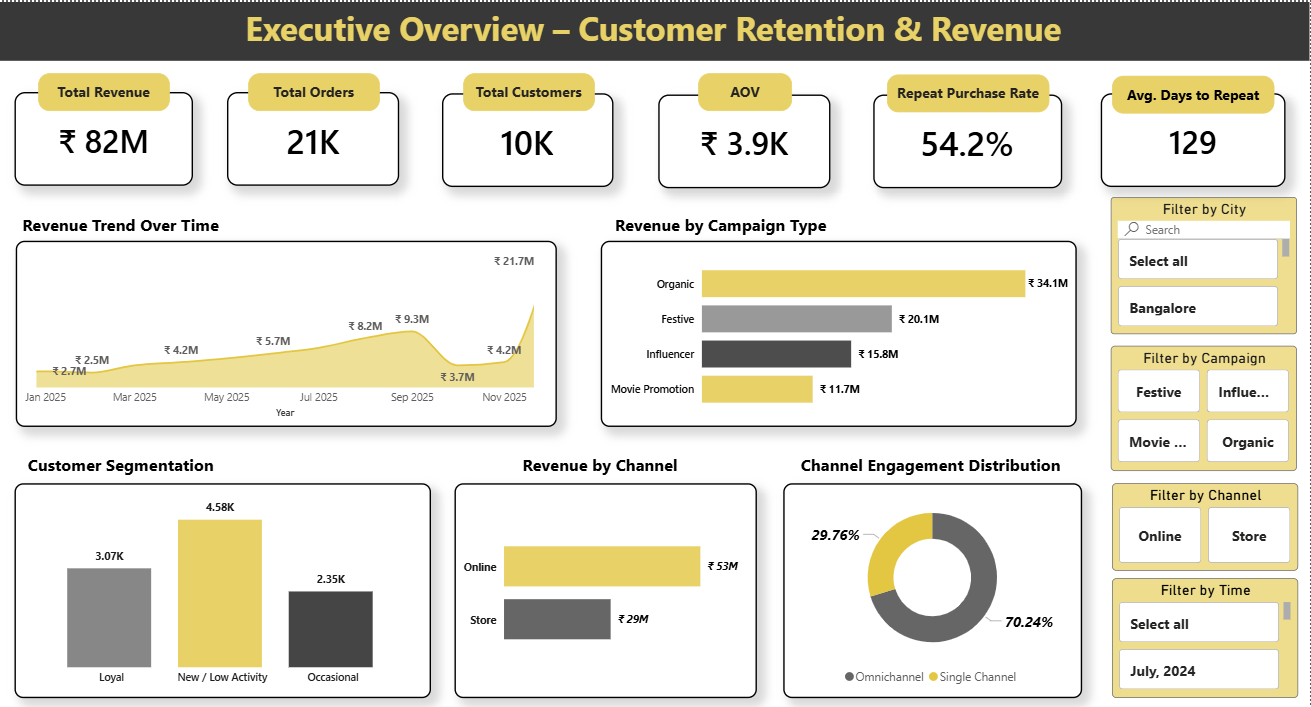

Layout of this report page (visuals, bound fields, positions):
{"tool":"powerbi","page":{"name":"Executive Overview","canvas":[1500,810],"ordinal":0},"visuals":[{"type":"cardVisual","fields":{"Data":["order_items.Total Revenue"]},"box":[20,102.9,204.3,107.1],"z":0},{"type":"textbox","box":[47.1,81.4,150,42.9],"z":1000},{"type":"cardVisual","fields":{"Data":["order_items.Total Orders"]},"box":[262.9,102.9,197.1,107.1],"z":2000},{"type":"cardVisual","fields":{"Data":["order_items.Total Customers"]},"box":[508.6,104.3,195.7,107.1],"z":3000},{"type":"cardVisual","fields":{"Data":["order_items.AOV"]},"box":[755.7,105.7,197.1,107.1],"z":4000},{"type":"cardVisual","fields":{"Data":["order_items.Repeat Purchase Rate"]},"box":[1001.4,105.7,215.7,107.1],"z":5000},{"type":"textbox","box":[287.1,81.4,150,42.9],"z":6000},{"type":"textbox","box":[532.9,81.4,150,42.9],"z":7000},{"type":"textbox","box":[801.4,81.4,107.1,42.9],"z":8000},{"type":"textbox","box":[1017.1,82.9,185.7,42.9],"z":9000},{"type":"textbox","box":[0,0,1500,67.1],"z":10000},{"type":"lineChart","fields":{"Y":["order_items.Total Revenue"],"Category":["orders.MonthYear.Variation.Date Hierarchy.Year","orders.MonthYear.Variation.Date Hierarchy.Month"]},"box":[21.4,272.9,618.6,212.9],"z":11000},{"type":"clusteredBarChart","fields":{"Category":["orders.order_channel"],"Y":["order_items.Total Revenue"]},"box":[522.9,550,345.7,245.7],"z":12000},{"type":"clusteredBarChart","fields":{"Category":["orders.campaign_type"],"Y":["order_items.Total Revenue"]},"box":[690,272.9,544.3,212.9],"z":13000},{"type":"clusteredColumnChart","fields":{"Category":["customers.Customer Segment"],"Y":["Count(customers.customer_id)"]},"box":[20,550,475.7,245.7],"z":14000},{"type":"advancedSlicerVisual","title":"Filter by Campaign","fields":{"Values":["orders.campaign_type"]},"box":[1272.9,392.9,212.9,142.9],"z":15000},{"type":"advancedSlicerVisual","title":"Filter by Channel","fields":{"Values":["orders.order_channel"]},"box":[1274.3,550,212.9,100],"z":16000},{"type":"advancedSlicerVisual","title":"Filter by Time","fields":{"Values":["orders.MonthYear"]},"box":[1274.3,658.6,212.9,137.1],"z":17000},{"type":"textbox","box":[20,237.1,242.9,48.6],"z":18000},{"type":"textbox","box":[587.1,511.4,204.3,48.6],"z":19000},{"type":"textbox","box":[691.4,237.1,271.4,48.6],"z":20000},{"type":"textbox","box":[20,511.4,242.9,48.6],"z":21000},{"type":"advancedSlicerVisual","title":"Filter by City","fields":{"Values":["customers.city"]},"box":[1272.9,222.9,212.9,157.1],"z":22000},{"type":"cardVisual","fields":{"Data":["order_items.Avg Days to Repeat Purchase"]},"box":[1261.4,104.3,211.4,107.1],"z":23000},{"type":"textbox","box":[1274.3,84.3,185.7,42.9],"z":24000},{"type":"donutChart","fields":{"Category":["customers.Channel Type"],"Y":["orders.Avg Orders per Customer"]},"box":[898.6,550,341.4,245.7],"z":24001},{"type":"textbox","box":[908.6,511.4,317.1,48.6],"z":24002}]}

Visuals, with their boxes in screenshot pixels (x1, y1, x2, y2), scaled from the page's 1500x810 canvas onto the 1311x707 screenshot:
cardVisual - order_items.Total Revenue: {"left": 17, "top": 90, "right": 196, "bottom": 183}
textbox: {"left": 41, "top": 71, "right": 172, "bottom": 108}
cardVisual - order_items.Total Orders: {"left": 230, "top": 90, "right": 402, "bottom": 183}
cardVisual - order_items.Total Customers: {"left": 445, "top": 91, "right": 616, "bottom": 185}
cardVisual - order_items.AOV: {"left": 660, "top": 92, "right": 833, "bottom": 186}
cardVisual - order_items.Repeat Purchase Rate: {"left": 875, "top": 92, "right": 1064, "bottom": 186}
textbox: {"left": 251, "top": 71, "right": 382, "bottom": 108}
textbox: {"left": 466, "top": 71, "right": 597, "bottom": 108}
textbox: {"left": 700, "top": 71, "right": 794, "bottom": 108}
textbox: {"left": 889, "top": 72, "right": 1051, "bottom": 110}
textbox: {"left": 0, "top": 0, "right": 1310, "bottom": 59}
lineChart - order_items.Total Revenue x orders.MonthYear.Variation.Date Hierarchy.Year: {"left": 19, "top": 238, "right": 559, "bottom": 424}
clusteredBarChart - orders.order_channel x order_items.Total Revenue: {"left": 457, "top": 480, "right": 759, "bottom": 695}
clusteredBarChart - orders.campaign_type x order_items.Total Revenue: {"left": 603, "top": 238, "right": 1079, "bottom": 424}
clusteredColumnChart - customers.Customer Segment x Count(customers.customer_id): {"left": 17, "top": 480, "right": 433, "bottom": 695}
"Filter by Campaign" advancedSlicerVisual: {"left": 1113, "top": 343, "right": 1299, "bottom": 468}
"Filter by Channel" advancedSlicerVisual: {"left": 1114, "top": 480, "right": 1300, "bottom": 567}
"Filter by Time" advancedSlicerVisual: {"left": 1114, "top": 575, "right": 1300, "bottom": 695}
textbox: {"left": 17, "top": 207, "right": 230, "bottom": 249}
textbox: {"left": 513, "top": 446, "right": 692, "bottom": 489}
textbox: {"left": 604, "top": 207, "right": 841, "bottom": 249}
textbox: {"left": 17, "top": 446, "right": 230, "bottom": 489}
"Filter by City" advancedSlicerVisual: {"left": 1113, "top": 195, "right": 1299, "bottom": 332}
cardVisual - order_items.Avg Days to Repeat Purchase: {"left": 1102, "top": 91, "right": 1287, "bottom": 185}
textbox: {"left": 1114, "top": 74, "right": 1276, "bottom": 111}
donutChart - customers.Channel Type x orders.Avg Orders per Customer: {"left": 785, "top": 480, "right": 1084, "bottom": 695}
textbox: {"left": 794, "top": 446, "right": 1071, "bottom": 489}
